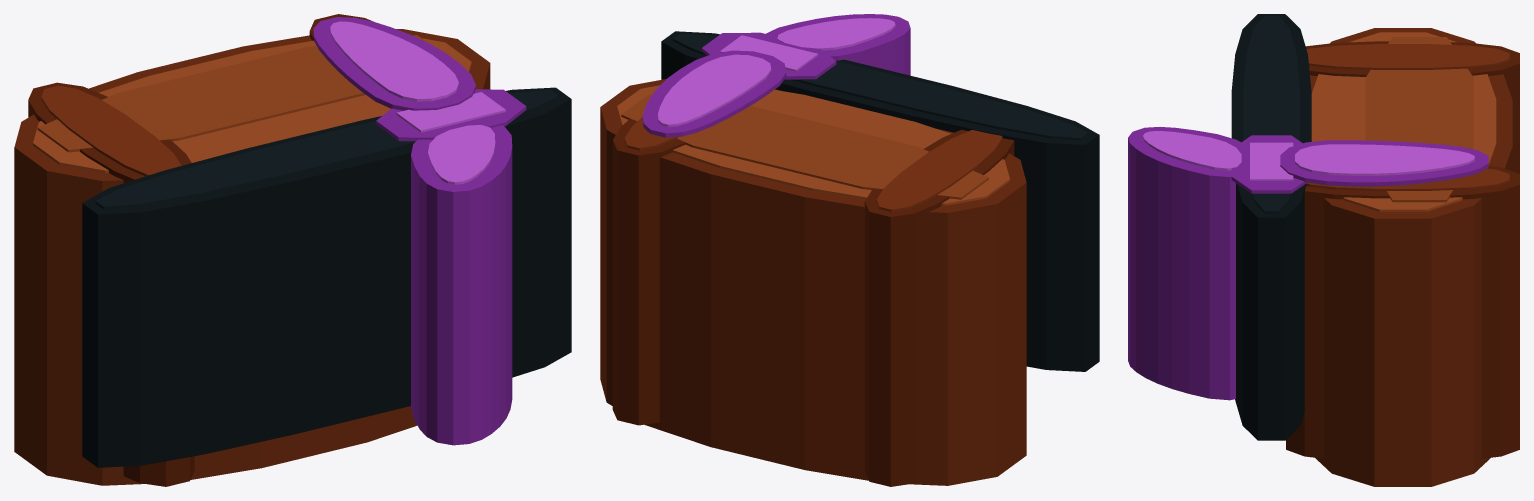
The model's file is bag_picareta_ametista.fbx.
3 renders of one model, left to right at view 1: azimuth 30°, elevation 25°; view 2: azimuth 150°, elevation 25°; view 3: azimuth 270°, elevation 25°, orthographic. The views are drawn at different scales.
Visible parts, largest first — view 1: bag_picareta_ametista_mochila; view 2: bag_picareta_ametista_mochila; view 3: bag_picareta_ametista_mochila.
Boxes of the visible parts, bbox=[...] form: bag_picareta_ametista_mochila: bbox=[14, 14, 571, 486]; bag_picareta_ametista_mochila: bbox=[600, 14, 1099, 486]; bag_picareta_ametista_mochila: bbox=[1128, 14, 1519, 486].
Bounding box in the file's own units: 2.89 × 1.91 × 2.36.
1 material, 1 textured.
